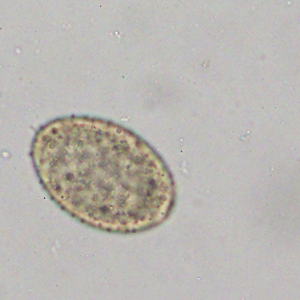Fasciola_hepatica_egg: (28, 113, 175, 236)
